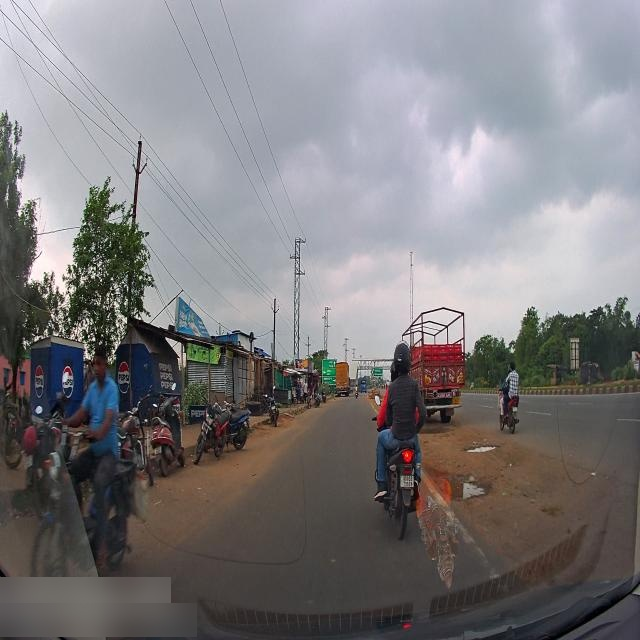pothole: (422, 458, 491, 507), (462, 436, 502, 455)
